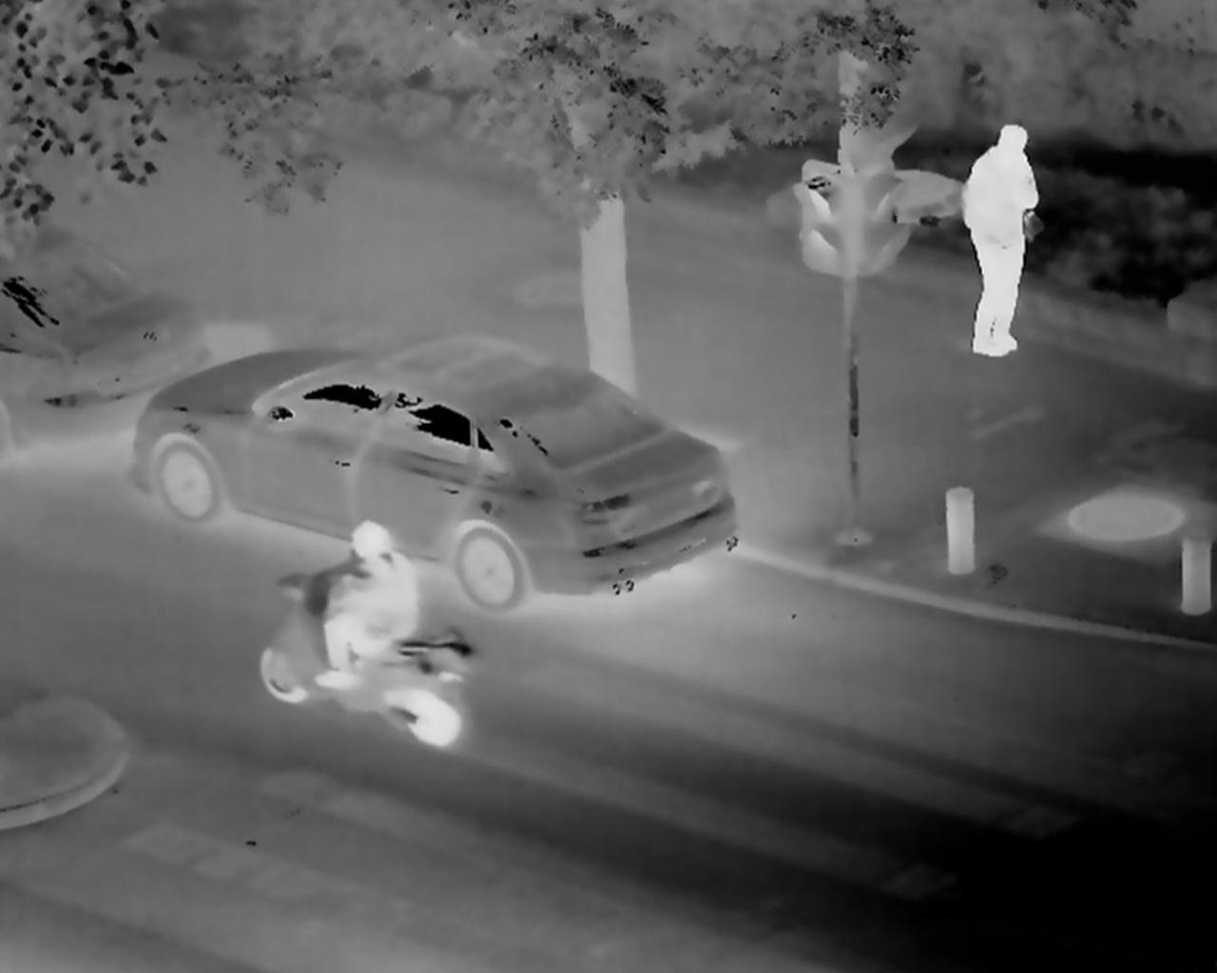person: (298, 523, 434, 679), (957, 117, 1044, 358)
